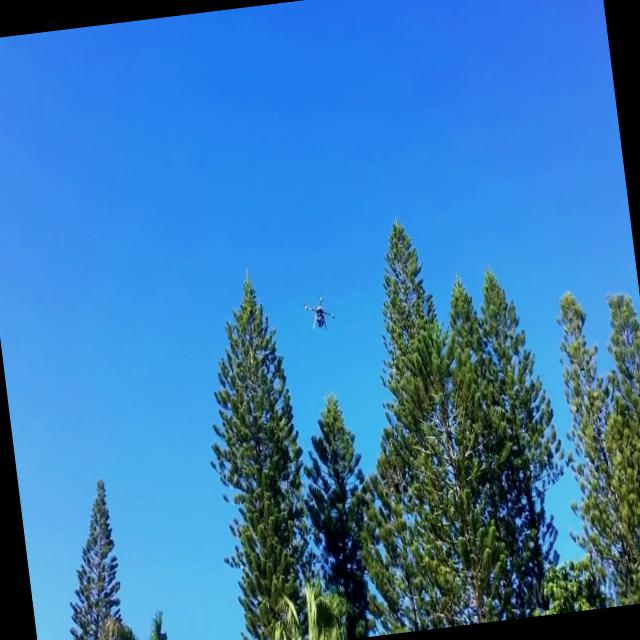drone: (302, 293, 338, 336)
